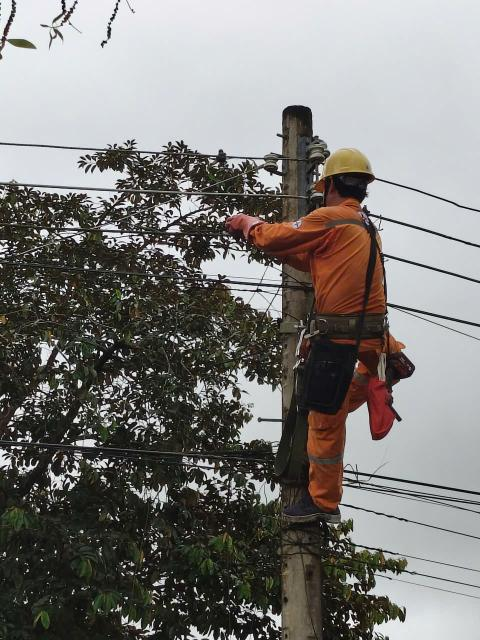gloves: (202, 205, 267, 248)
harness: (289, 304, 400, 351)
helmet: (297, 136, 382, 192)
shoes: (278, 491, 341, 532)
